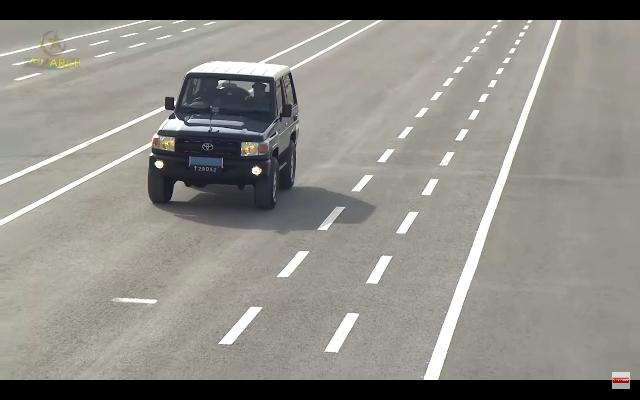plate: (191, 164, 221, 174)
